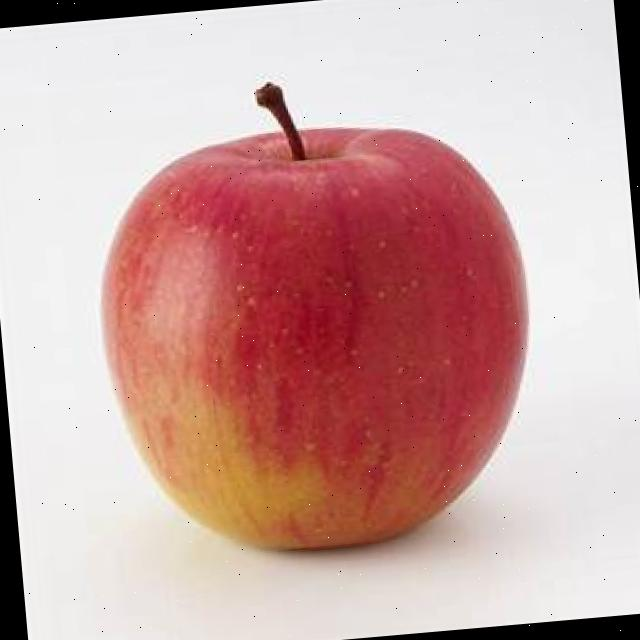apple: (76, 58, 550, 568)
